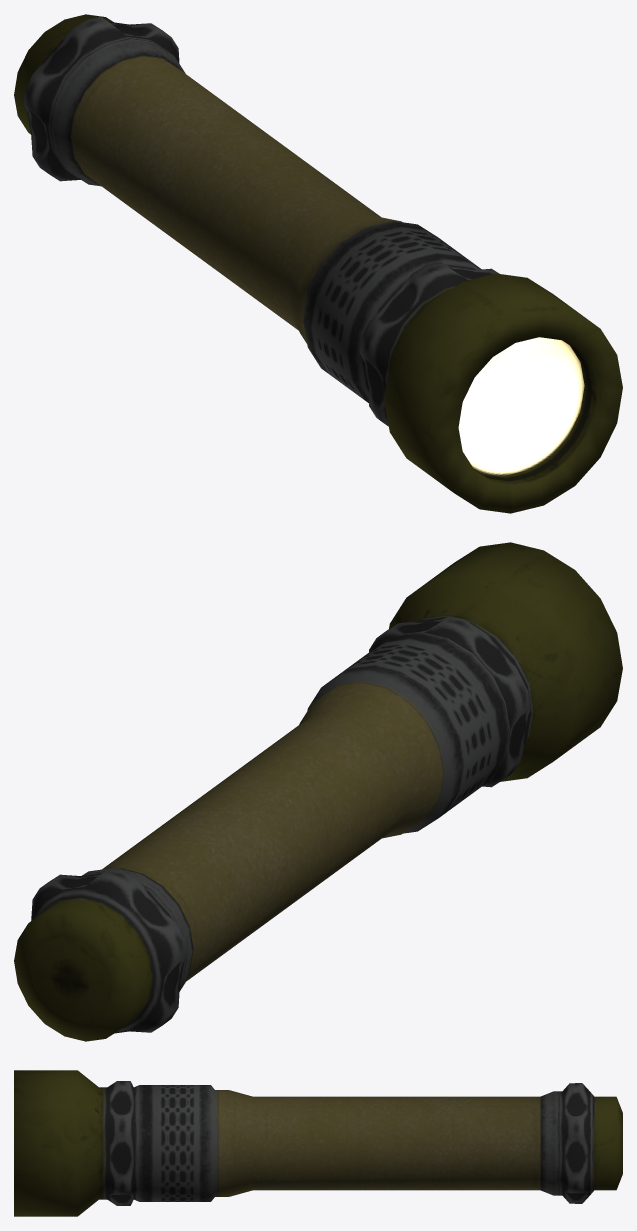
File: Modern_FlashLight.fbx
3 renders of one model, top to bottom at view 1: azimuth 30°, elevation 25°; view 2: azimuth 150°, elevation 25°; view 3: azimuth 270°, elevation 25°, orthographic. The views are drawn at different scales.
Parts seen in each view (by area): view 1: Modern_FlashLight_LOD0; view 2: Modern_FlashLight_LOD0; view 3: Modern_FlashLight_LOD0.
Boxes of the visible parts, x1=… form: Modern_FlashLight_LOD0: x1=14, y1=14, x2=622, y2=513; Modern_FlashLight_LOD0: x1=14, y1=542, x2=622, y2=1041; Modern_FlashLight_LOD0: x1=14, y1=1070, x2=622, y2=1216.
Size of what is drawn, in the model's own units: 6.89 by 6.79 by 28.52.
